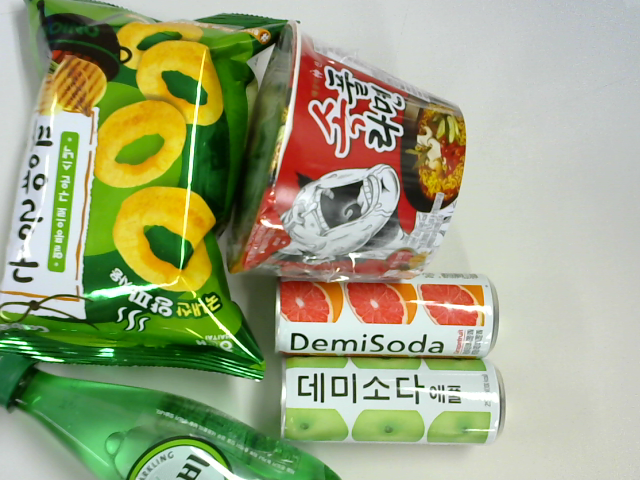Demisoda_Apple_Can_250ml: (271, 348, 513, 450)
Demisoda_Grapefruit_Can_250ml: (266, 267, 510, 351)
Grilled_Onions: (15, 1, 262, 375)
Hejangpul: (225, 29, 480, 283)
Treviraim_500ml: (1, 364, 365, 477)
